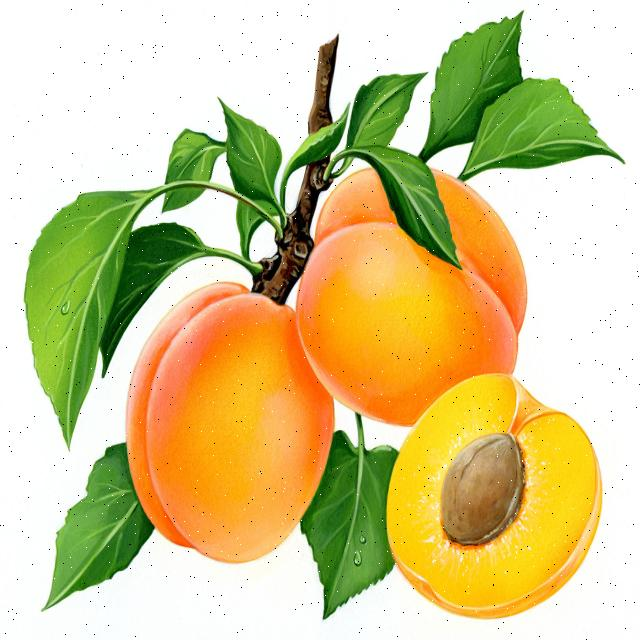Cekirdek: (441, 433, 524, 545)
Kayisi: (145, 293, 334, 561)
Yaprak: (24, 189, 161, 448), (460, 79, 624, 180), (420, 12, 522, 161)
